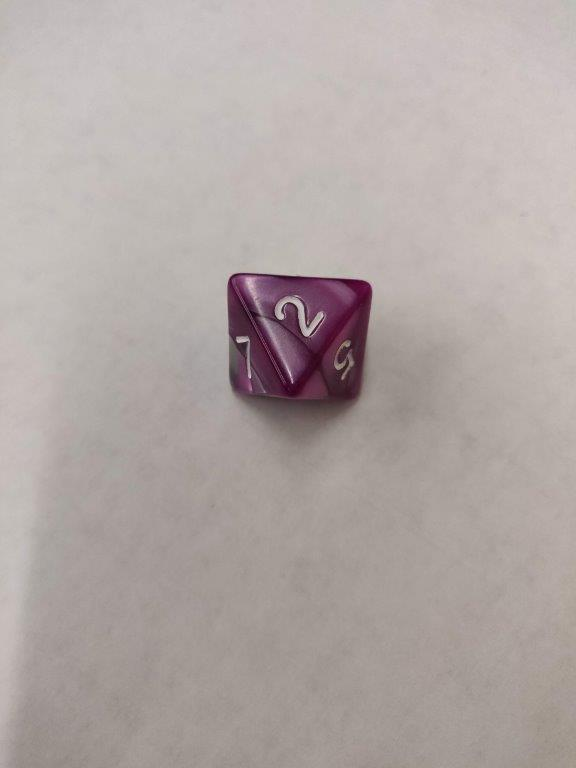d8-2: (226, 270, 373, 405)
